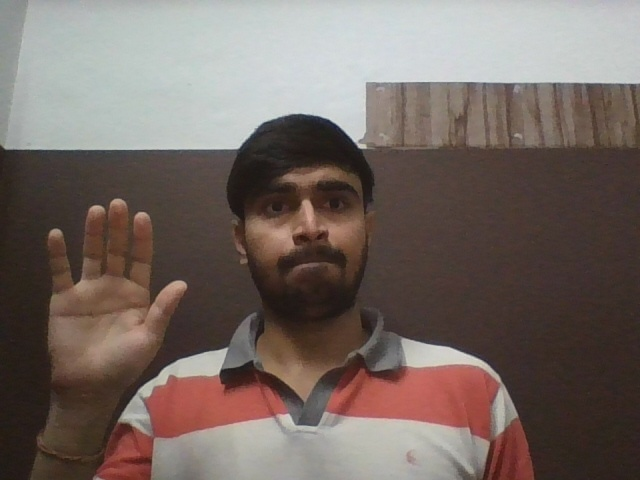Hello: (44, 198, 188, 396)
